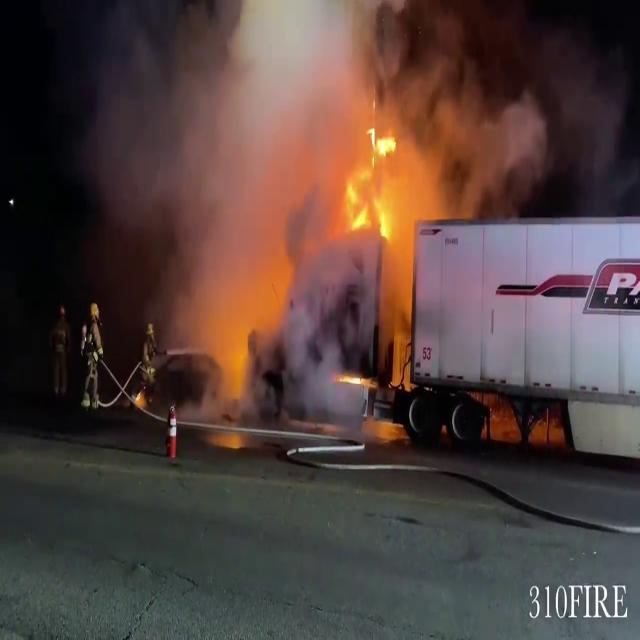Fire: (344, 120, 402, 252)
Smoke: (105, 0, 560, 338)
